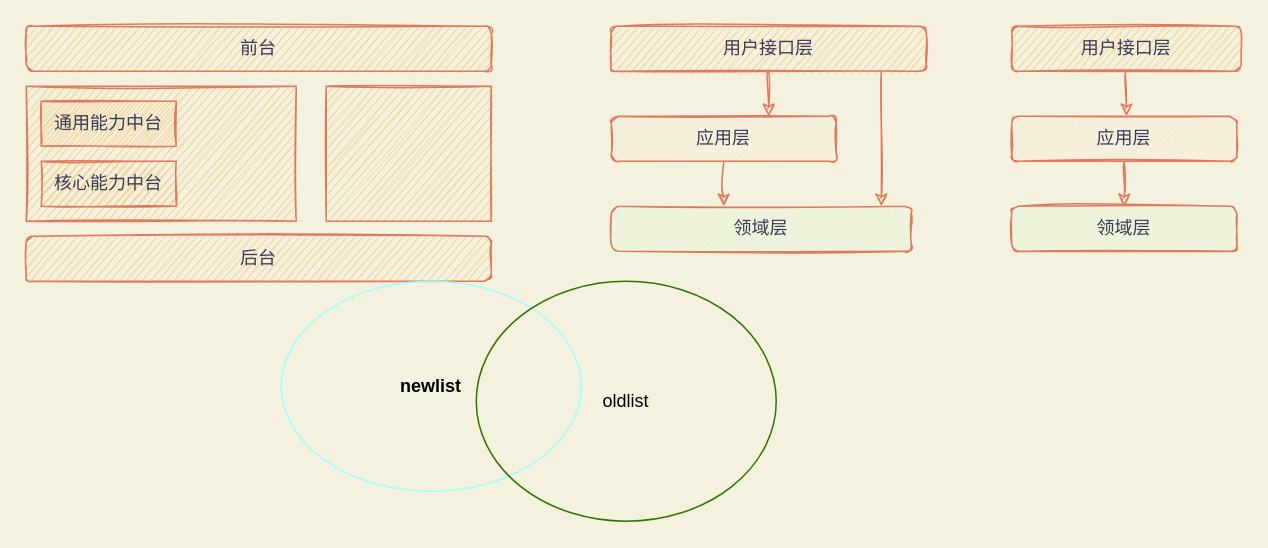
Image size: 1268x548. Some labels were removed from this diagram. The box of each missing label's shape, as (x1, y1, x2, y2) in pixels:
业务中台: (25, 85, 296, 221)
数据中台: (325, 85, 491, 221)
